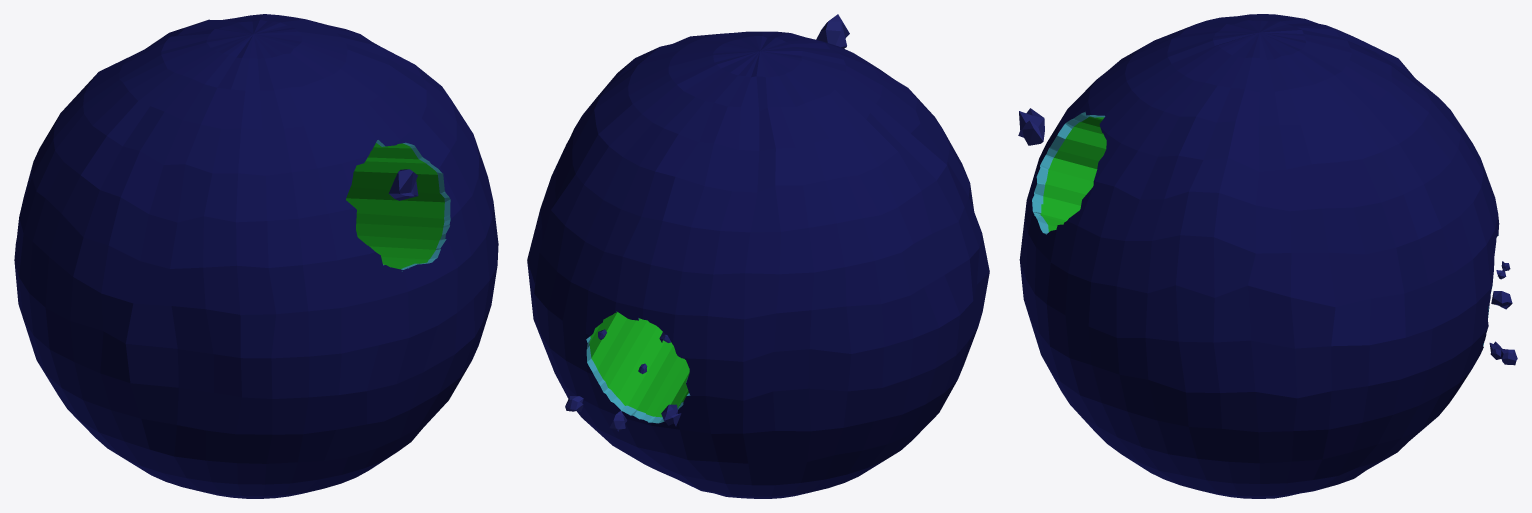
The model's file is PiercedSphere.fbx.
3 renders of one model, left to right at view 1: azimuth 30°, elevation 25°; view 2: azimuth 150°, elevation 25°; view 3: azimuth 270°, elevation 25°, orthographic. The views are drawn at different scales.
Parts seen in each view (by area): view 1: Sphere, Cube; view 2: Sphere, Cube; view 3: Sphere, Cube.
Part boxes in pixels (box(x1,y1,x2,y2)): Sphere: box(14, 14, 498, 498); Cube: box(388, 169, 418, 200); Sphere: box(527, 31, 989, 498); Cube: box(565, 14, 849, 431); Sphere: box(1019, 14, 1499, 498); Cube: box(1018, 108, 1517, 365).
Bounding box in the file's own units: 197 × 201 × 206.
